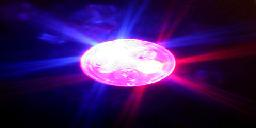LED: (75, 37, 178, 96)
